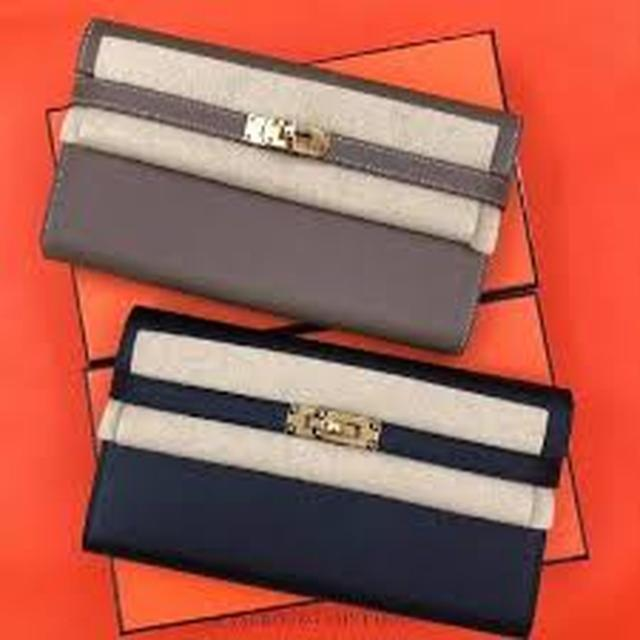wallet: (17, 8, 546, 369), (73, 277, 593, 640)
